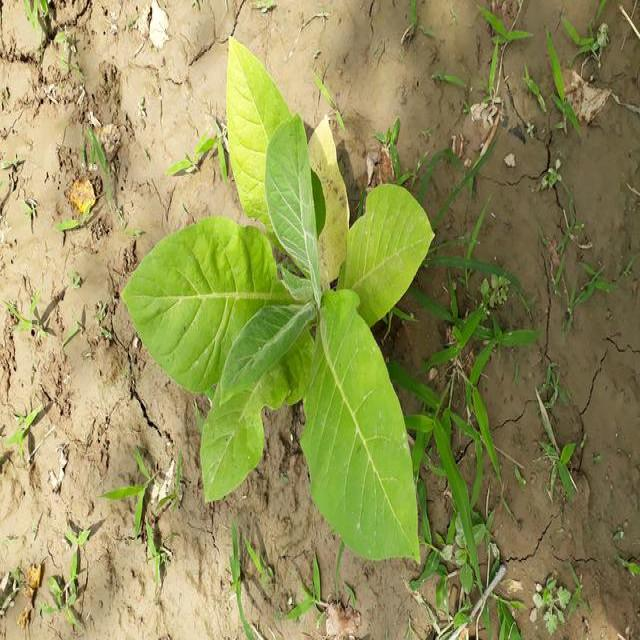crop: (118, 36, 436, 568)
